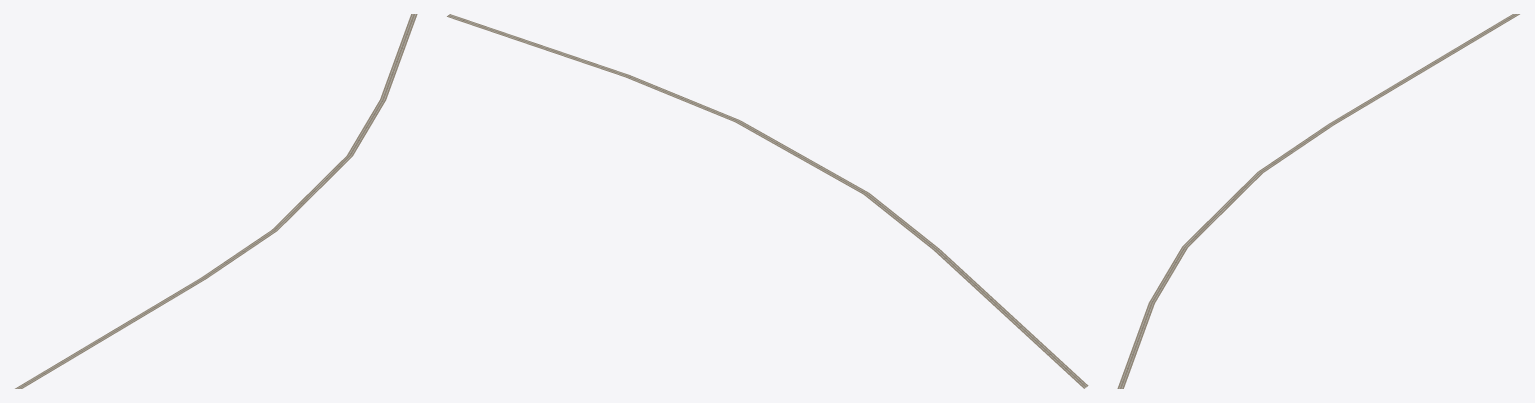
The picture shows the model from 3 angles, left to right: view 1: azimuth 90°, elevation 25°; view 2: azimuth 150°, elevation 25°; view 3: azimuth 270°, elevation 25°; orthographic projection. The views are drawn at different scales.
Visible parts, largest first — view 1: rail; view 2: rail; view 3: rail.
Part boxes in pixels (<box>): rail: <box>15,14,417,388</box>; rail: <box>447,14,1088,388</box>; rail: <box>1117,14,1519,388</box>.
Bounding box in the file's own units: 500 × 0.04 × 227.
